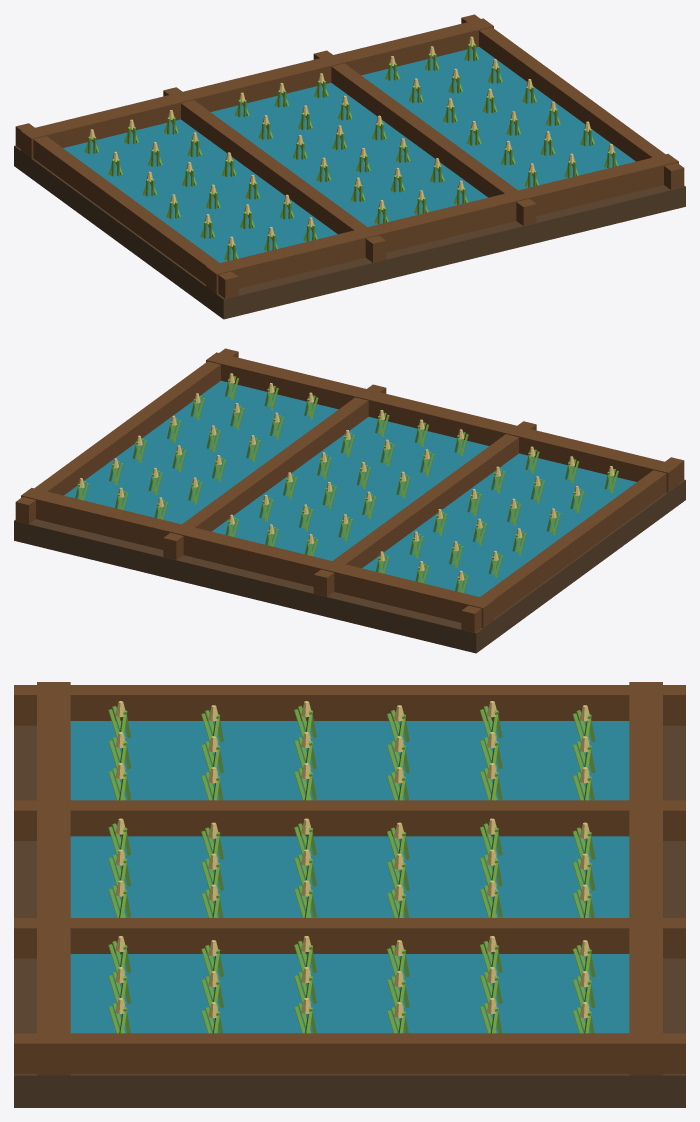
The model's file is rice_field.glb.
3 views of the same model, one above another, from view 1: azimuth 30°, elevation 25°; view 2: azimuth 150°, elevation 25°; view 3: azimuth 270°, elevation 25° (orthographic). The views are drawn at different scales.
Visible parts, largest first — view 1: TerrainBase, PaddyWater.001, PaddyWater.002, PaddyWater, CrossBund, CrossBund.001, PaddyBund, PaddyBund.002, PaddyBund.001, PaddyBund.003; view 2: TerrainBase, PaddyWater.001, PaddyWater.002, PaddyWater, CrossBund.001, CrossBund, PaddyBund, PaddyBund.002, PaddyBund.001, PaddyBund.003; view 3: PaddyWater.001, PaddyWater, PaddyWater.002, TerrainBase, PaddyBund.003, PaddyBund.001, PaddyBund.002, PaddyBund, CrossBund, CrossBund.001.
Boxes of the visible parts, x1,y1,x2,y2 form: TerrainBase: (14, 145, 685, 319); PaddyWater.001: (211, 83, 487, 226); PaddyWater.002: (361, 46, 635, 190); PaddyWater: (63, 119, 337, 262); CrossBund: (206, 154, 678, 294); CrossBund.001: (21, 18, 493, 158); PaddyBund: (15, 123, 238, 298); PaddyBund.002: (313, 50, 536, 225); PaddyBund.001: (163, 87, 386, 262); PaddyBund.003: (461, 14, 684, 189); TerrainBase: (14, 479, 685, 653); PaddyWater.001: (212, 417, 488, 560); PaddyWater.002: (64, 380, 338, 524); PaddyWater: (362, 453, 636, 596); CrossBund.001: (21, 488, 493, 628); CrossBund: (206, 352, 678, 492); PaddyBund: (461, 457, 684, 632); PaddyBund.002: (163, 384, 386, 559); PaddyBund.001: (313, 421, 536, 596); PaddyBund.003: (15, 348, 238, 523); PaddyWater.001: (70, 836, 629, 917); PaddyWater: (70, 721, 629, 800); PaddyWater.002: (70, 954, 629, 1033); TerrainBase: (14, 725, 685, 1107); PaddyBund.003: (14, 1033, 685, 1073); PaddyBund.001: (14, 800, 685, 840); PaddyBund.002: (14, 918, 685, 958); PaddyBund: (14, 685, 685, 725); CrossBund: (37, 682, 70, 1075); CrossBund.001: (629, 682, 662, 1075).
Bounding box in the file's own units: 14 × 1.38 × 11.
